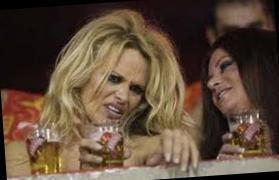Drunk: (94, 47, 145, 124), (202, 51, 246, 115)
